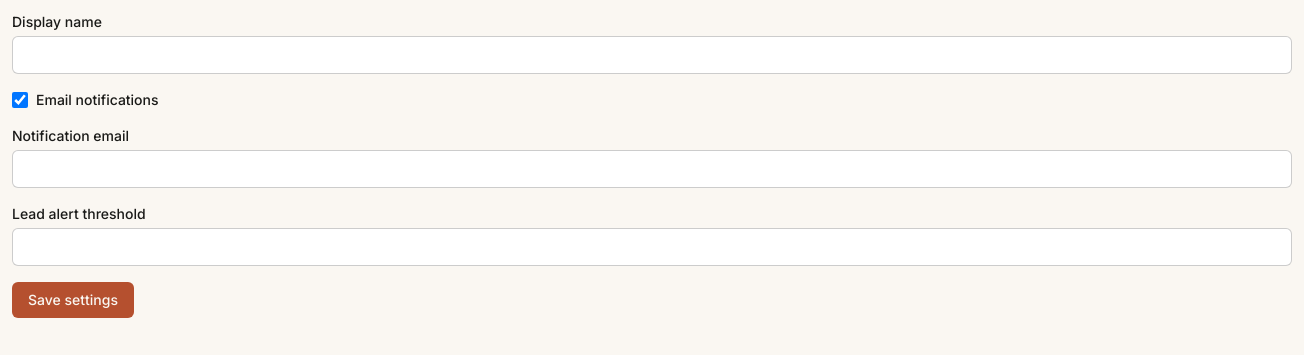
Test: SettingsForm › rejects an empty display name with an inline error
Type "Philip" into the field labelled "Display name". click: point(652, 55)
box: [12, 36, 1292, 74]
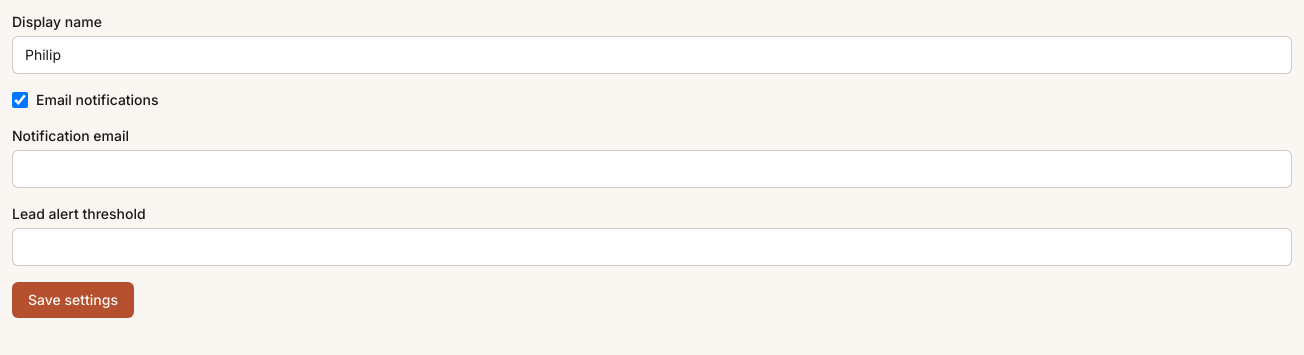
Type "philip@example.com" into the field labelled "Notification email". click: point(652, 169)
box: [12, 150, 1292, 188]
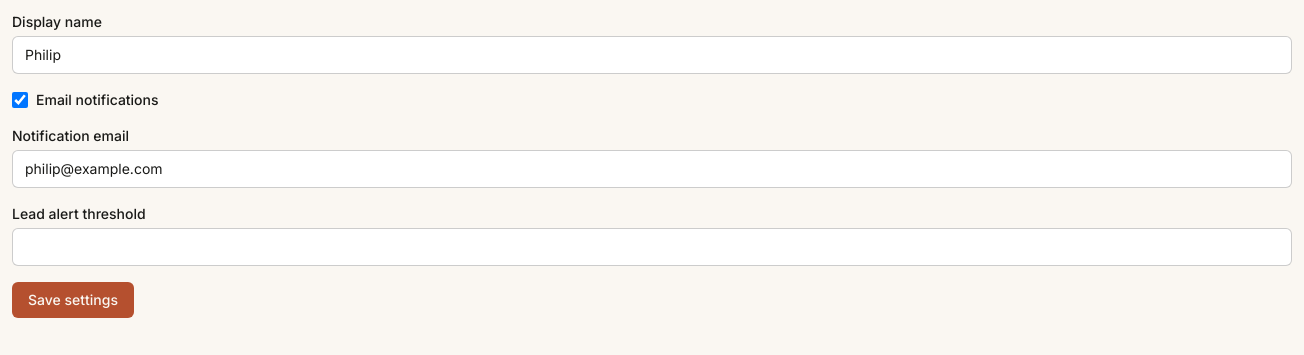
Type "50" into the number field labelled "Lead alert threshold". click: point(652, 247)
box: [12, 228, 1292, 266]
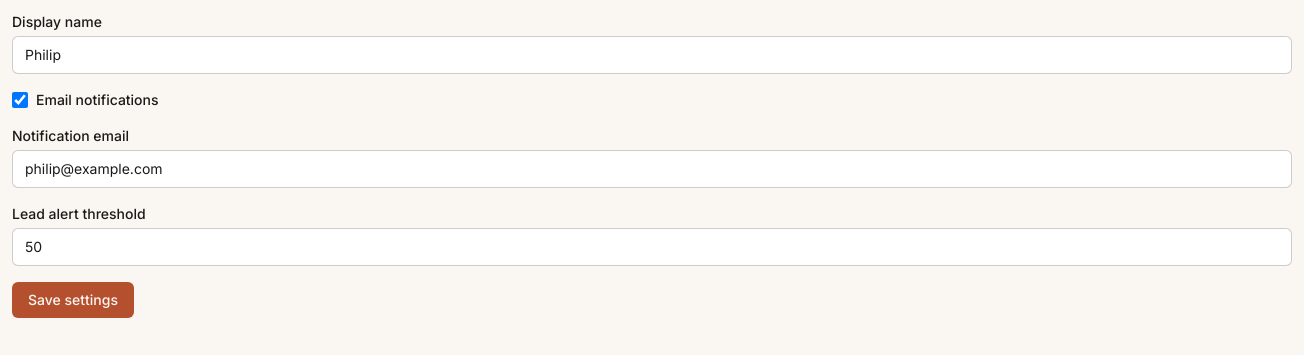
Clear the field labelled "Display name". click: point(652, 55)
box: [12, 36, 1292, 74]
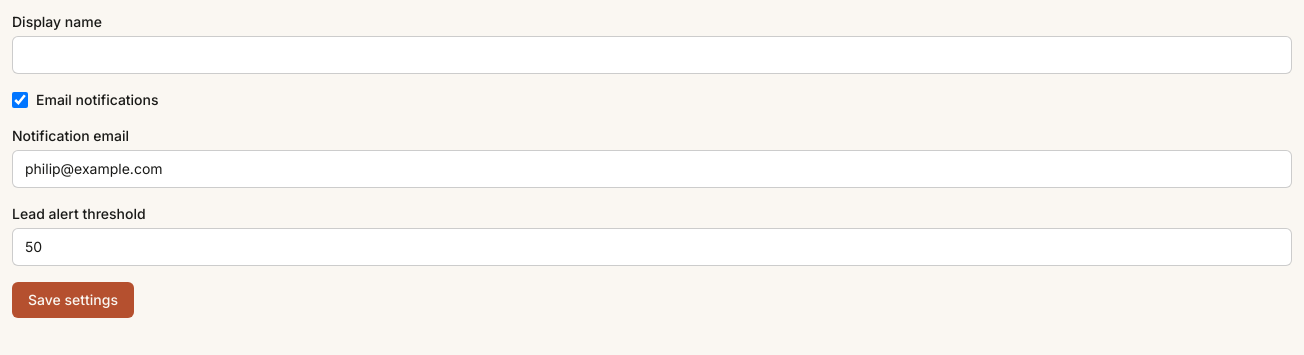
Click the button "Save settings". click: point(73, 300)
box: [12, 282, 134, 318]
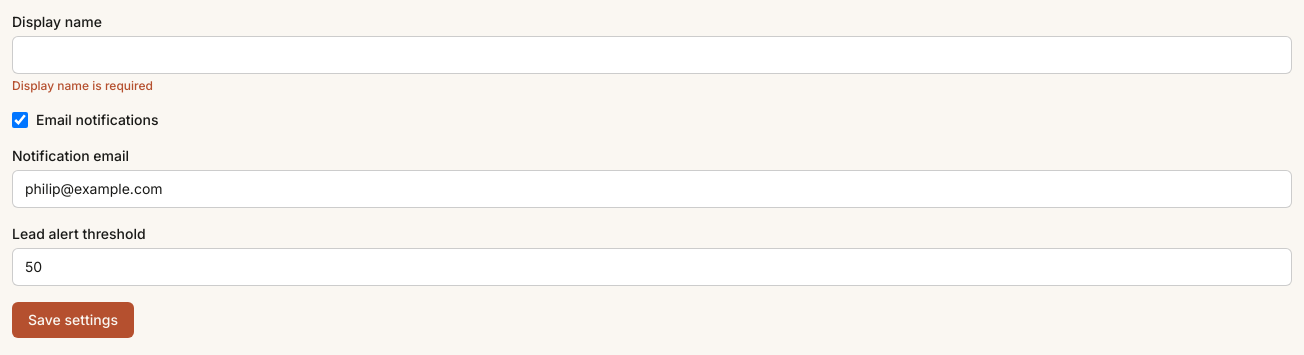
Now the text "Display name is required" is shown, box [12, 78, 153, 93]
